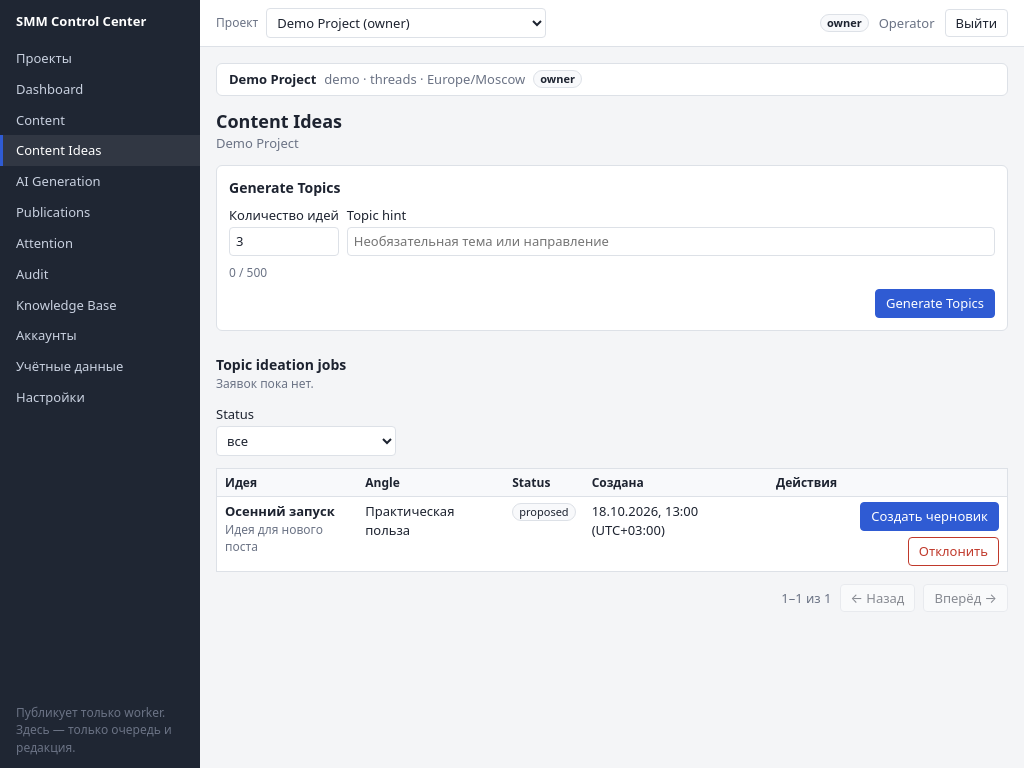
content ideas page › keeps the Ideas section and never displays the previous project's ideas when switching
Expected: the text "Осенний запуск" is shown, [225,502,335,520]
Select "Beta Project (viewer)" in the dropdown named "Project switcher" at {"x": 406, "y": 23}, box [266,8,546,38]
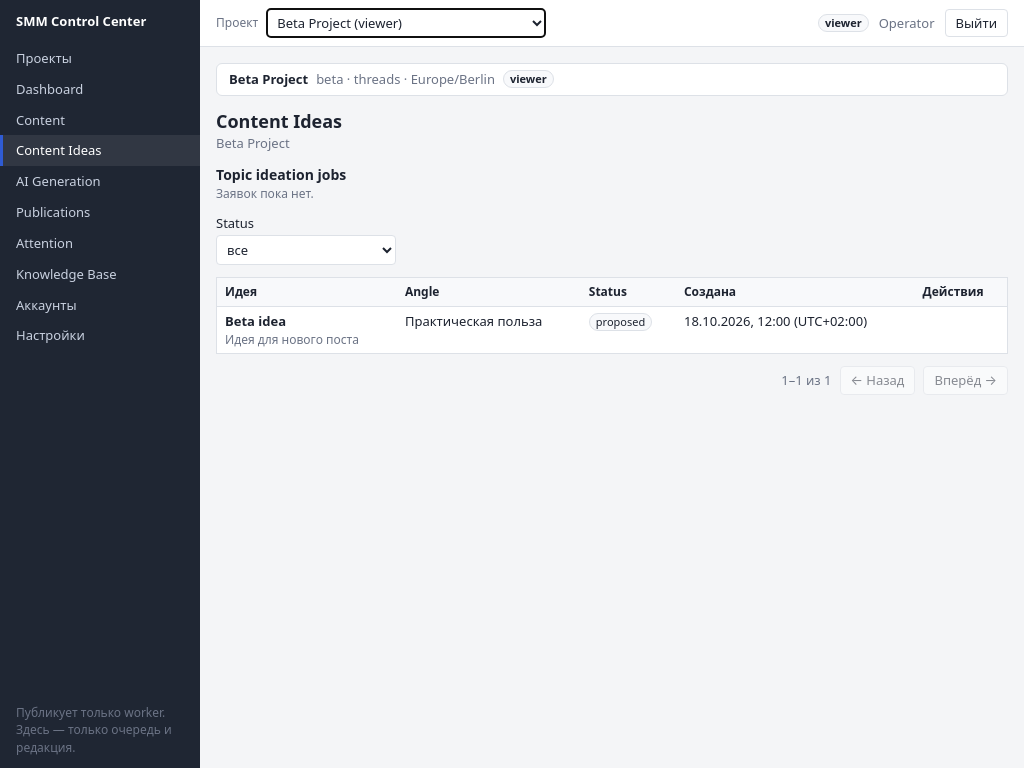
Now the text "Beta idea" is shown, box [225,312,286,330]
Now the text "Осенний запуск" is gone
